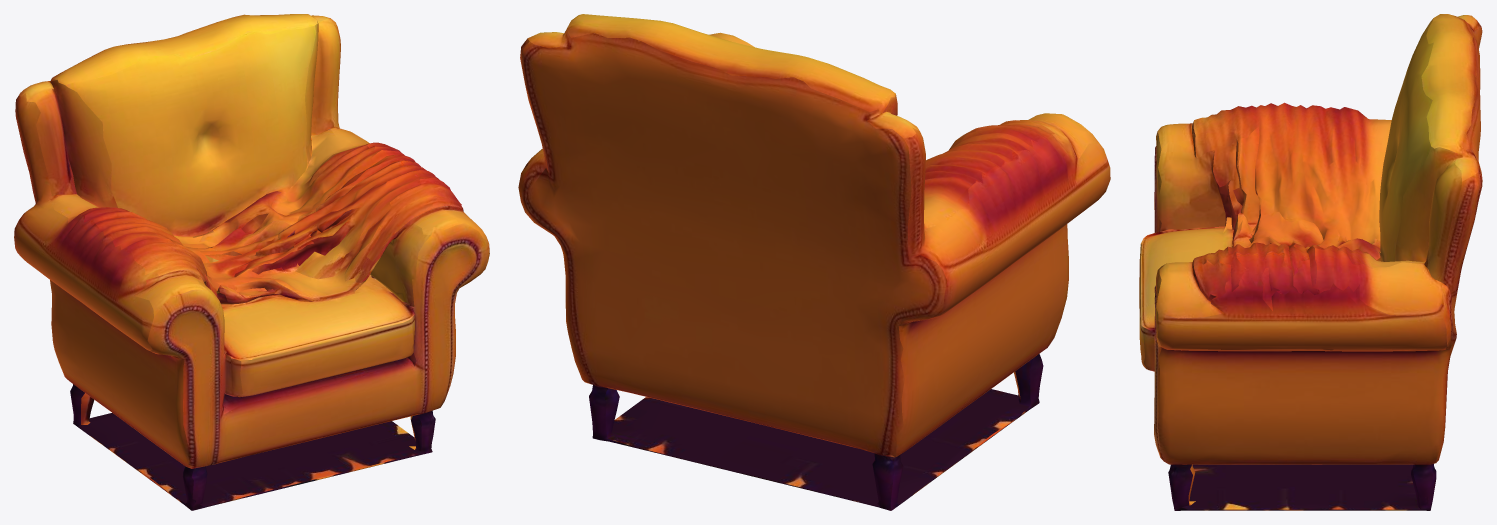
Rendered from armchair_big.glb.
3 renders of one model, left to right at view 1: azimuth 30°, elevation 25°; view 2: azimuth 150°, elevation 25°; view 3: azimuth 270°, elevation 25°, orthographic. The views are drawn at different scales.
Parts seen in each view (by area): view 1: armchair_big; view 2: armchair_big; view 3: armchair_big.
Part boxes in pixels (x1=…): armchair_big: x1=14, y1=14, x2=489, y2=510; armchair_big: x1=518, y1=14, x2=1110, y2=510; armchair_big: x1=1139, y1=14, x2=1482, y2=510.
Size of the model in its own units: 1 by 0.9706 by 0.7905.
1 material, 1 textured.
